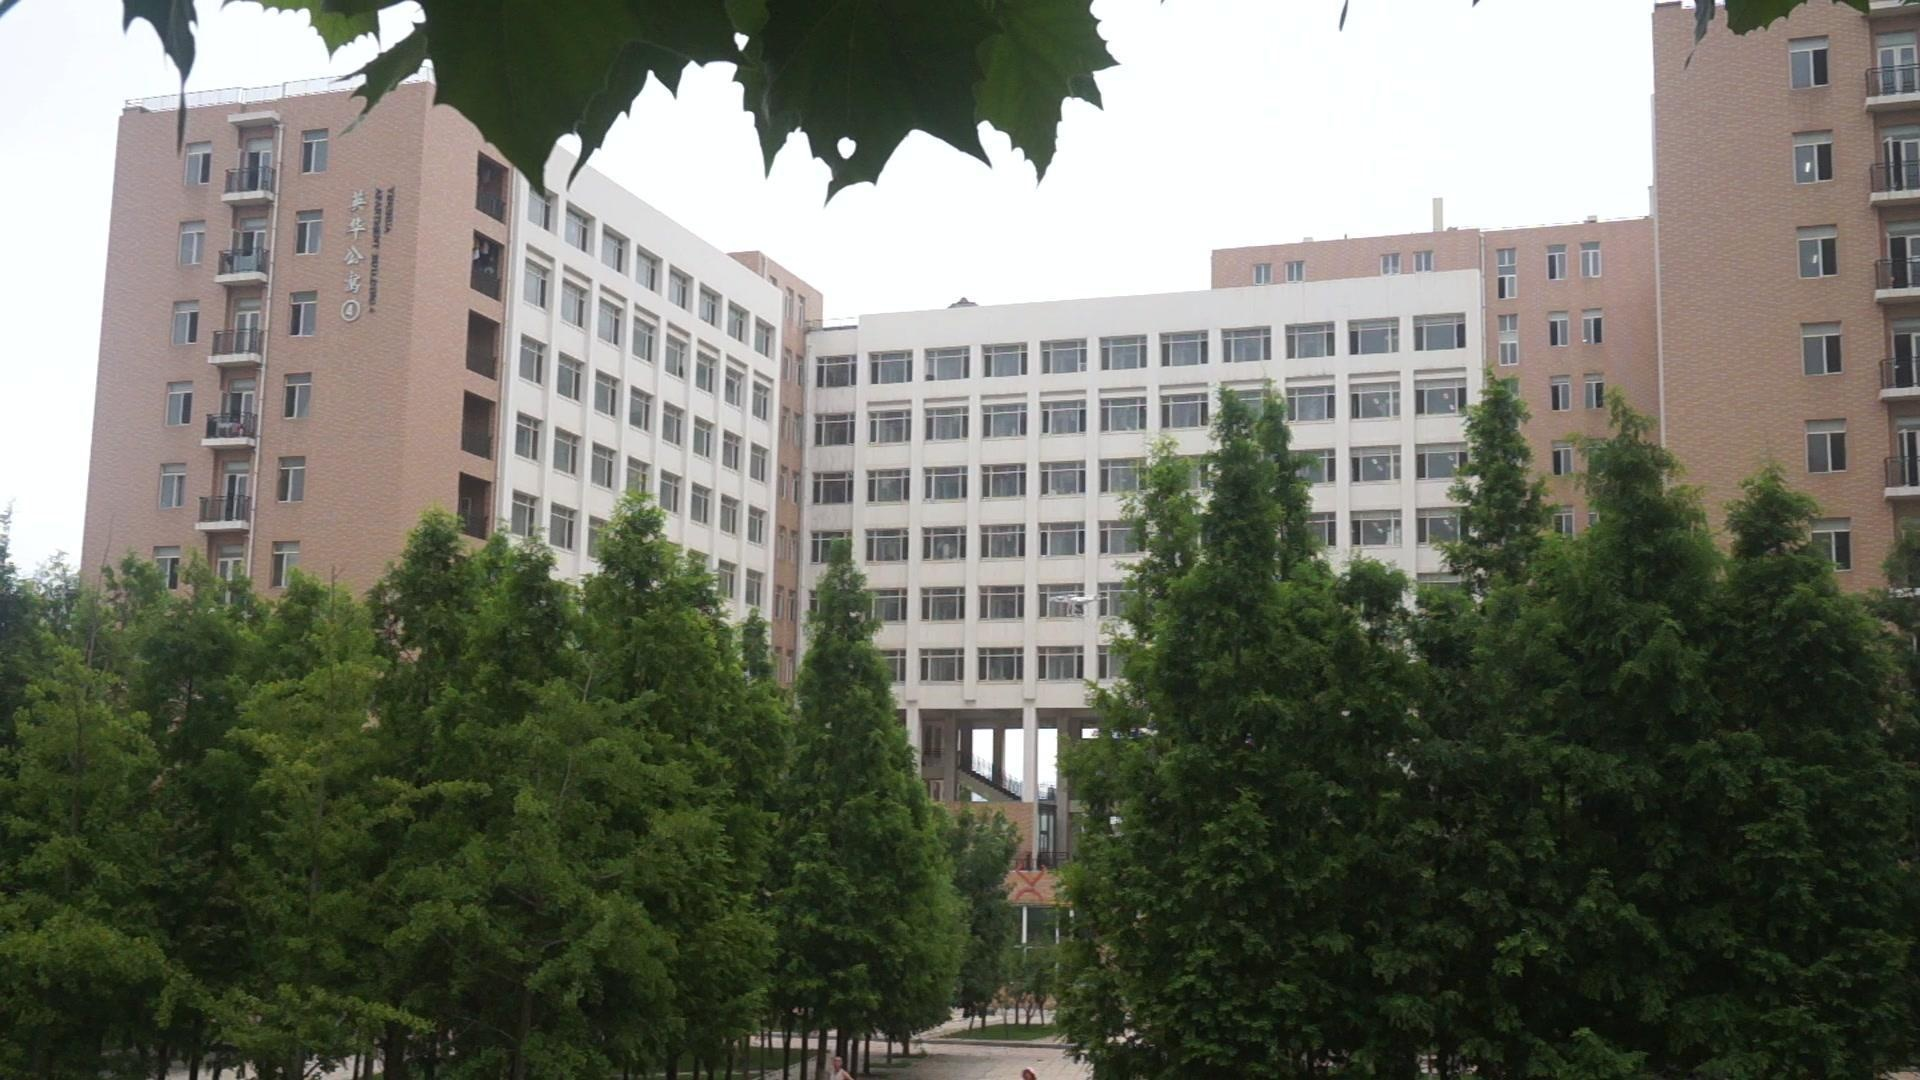UAV: (1051, 595, 1109, 618)
